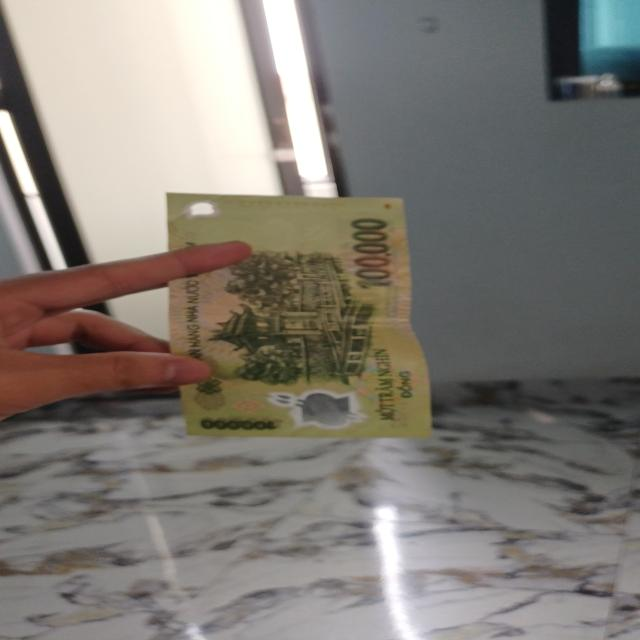100 000 VND: (160, 188, 438, 444)
